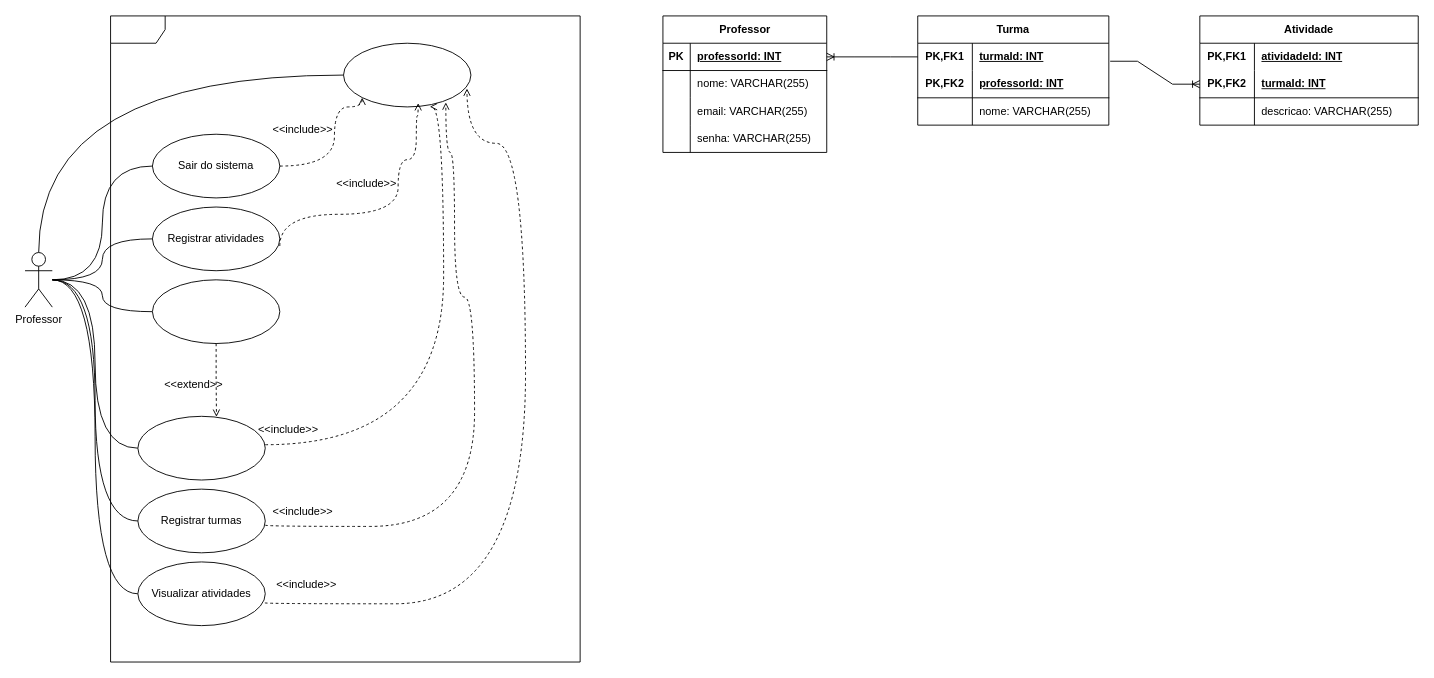
Some shapes in this 1434 by 678 pixel diagram are drawn without their labels. The shapes that lost their labels are listed below. From the top down, each one's box as (x1, y1, x2, y2) in pixels, then its label:
(343, 42, 471, 107): Autenticar-se no sistema
(152, 279, 280, 344): Excluir turmas
(110, 15, 580, 662): Sistena
(137, 415, 265, 480): Visualizar turmas
